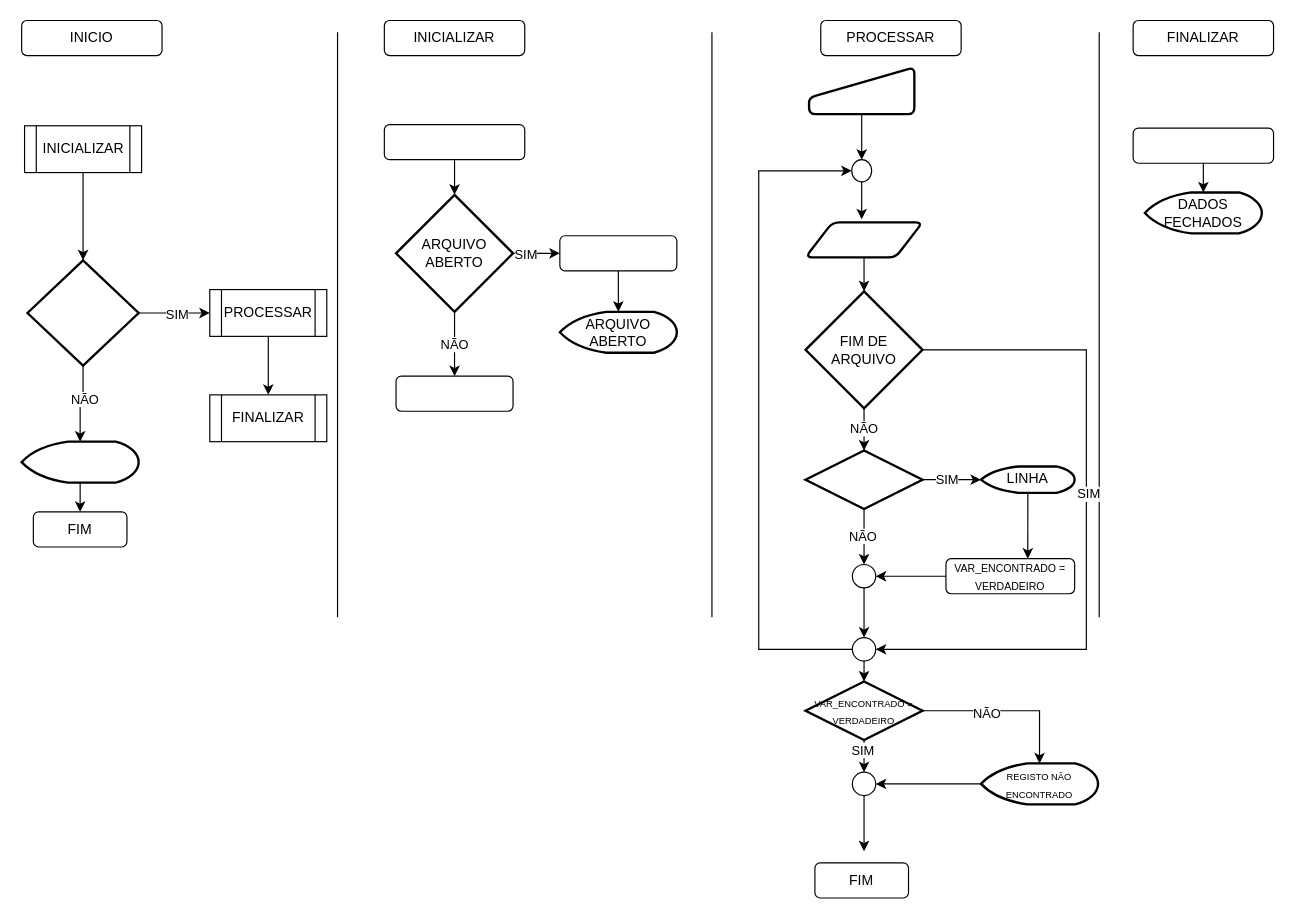
Image size: 1294x918. Some labels were removed from this diagram. Here are the shapes that lost their labels. From the top down, the box of each, then its label:
(807, 66, 915, 115): VAR_CODIGO
(383, 123, 525, 160): ABRIR DADOS
(1132, 127, 1274, 163): FECHAR DADOS
(559, 235, 677, 271): VA_ARQUIVO = TRUE
(804, 221, 923, 258): DADOS
(26, 259, 139, 366): VAR_ARQUIVO_EXISTE
(395, 375, 513, 411): VA_ARQUIVO = FALSE
(20, 440, 139, 483): ARQUIVO NÃO EXISTE
(804, 449, 923, 510): CODIGO = VAR_CODIGO
